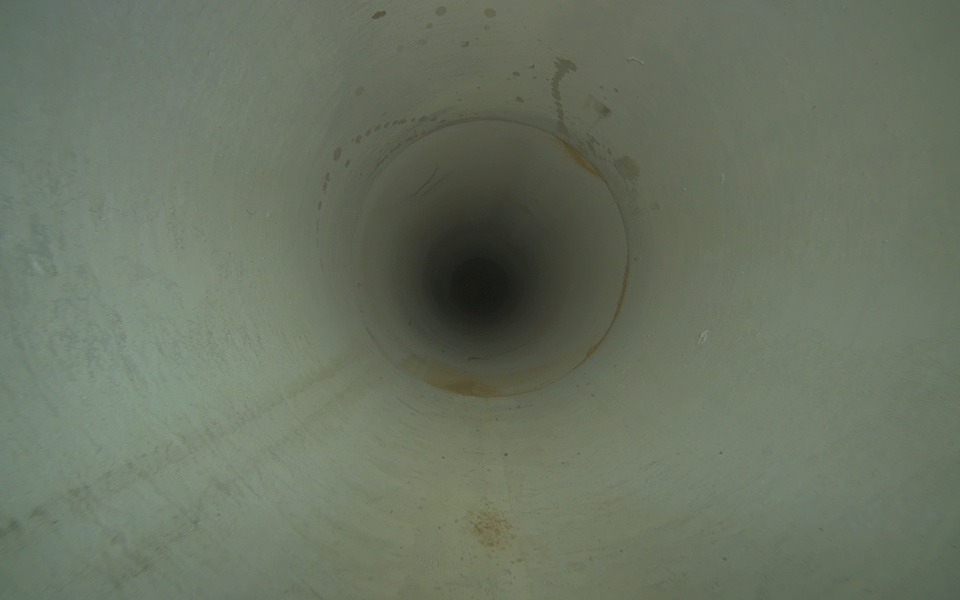circle1: (360, 117, 629, 399)
circle2: (449, 260, 511, 316)
